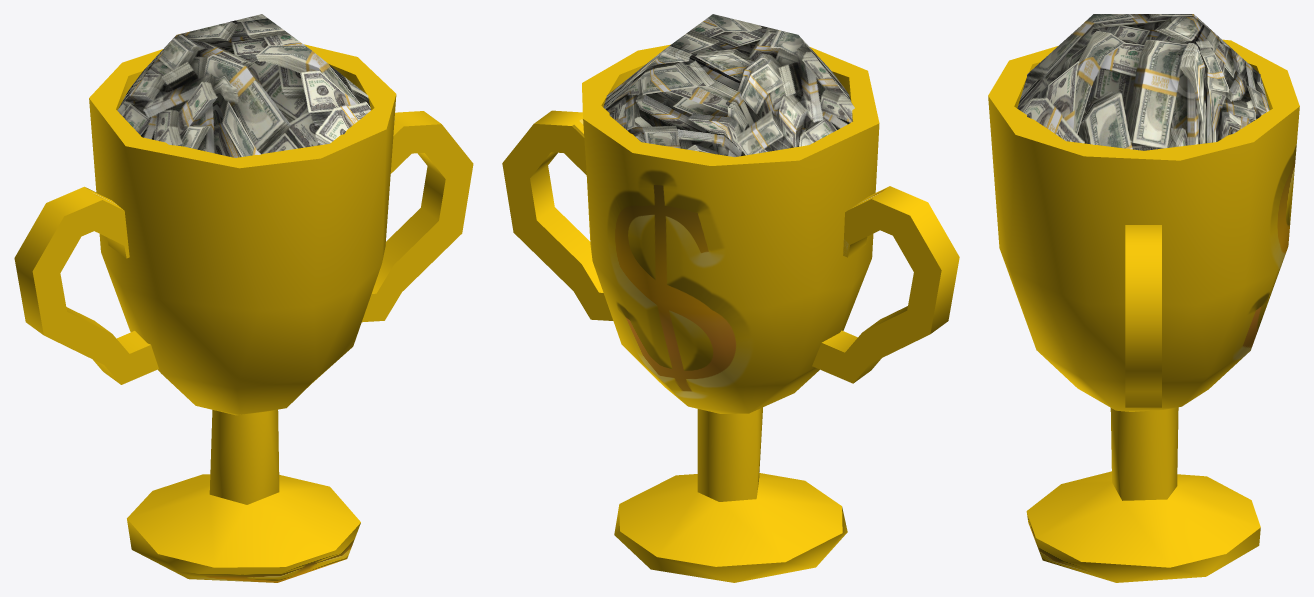
File: kubok_income.fbx
3 views of the same model, side by side, from view 1: azimuth 30°, elevation 25°; view 2: azimuth 150°, elevation 25°; view 3: azimuth 270°, elevation 25° (orthographic).
Visible parts, largest first — view 1: Cylinder, Plane; view 2: Cylinder, Plane; view 3: Cylinder, Plane.
Part boxes in pixels (<box>): Cylinder: <box>14,44,473,582</box>; Plane: <box>117,14,370,157</box>; Cylinder: <box>502,44,959,582</box>; Plane: <box>603,14,854,157</box>; Cylinder: <box>988,39,1299,582</box>; Plane: <box>1017,14,1269,150</box>.
Size of the model in its own units: 309 by 330 by 187.
